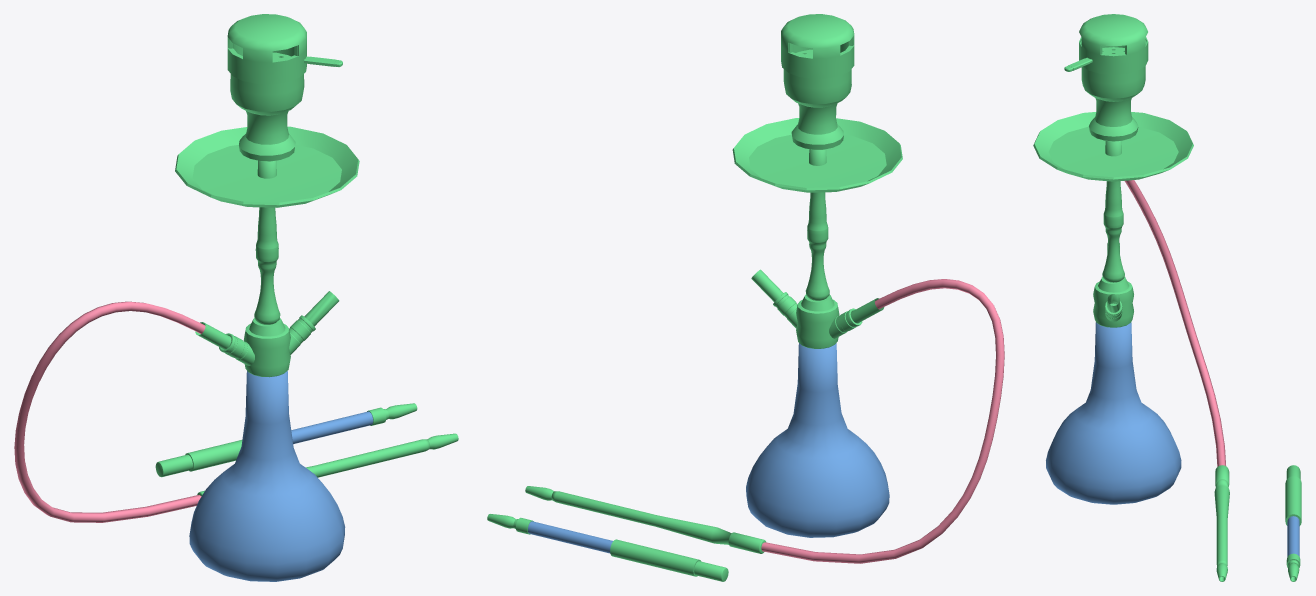
The model's file is Shisha_Reference.fbx.
3 views of the same model, side by side, from view 1: azimuth 30°, elevation 25°; view 2: azimuth 150°, elevation 25°; view 3: azimuth 270°, elevation 25° (orthographic). The views are drawn at different scales.
Visible parts, largest first — view 1: bottle, ashTray, hose, top, clayTop, pipeIce, adapter, body, pipe; view 2: bottle, ashTray, hose, top, pipeIce, clayTop, pipe, adapter, body; view 3: bottle, ashTray, top, clayTop, hose, body, pipeIce, adapter, pipe.
Part boxes in pixels (box(x1,y1,x2,y2)): bottle: box(189, 371, 345, 581); ashTray: box(175, 126, 359, 207); hose: box(14, 301, 205, 522); top: box(227, 14, 342, 84); clayTop: box(230, 56, 304, 161); pipeIce: box(155, 403, 417, 477); adapter: box(219, 315, 315, 377); body: box(254, 160, 280, 324); pipe: box(197, 433, 458, 495); bottle: box(746, 343, 889, 537); ashTray: box(732, 118, 902, 192); hose: box(761, 279, 1004, 563); top: box(781, 14, 854, 78); pipeIce: box(487, 514, 728, 581); clayTop: box(783, 53, 851, 149); pipe: box(525, 486, 765, 553); adapter: box(773, 292, 862, 348); body: box(805, 149, 829, 300); bottle: box(1046, 322, 1181, 504); ashTray: box(1033, 112, 1193, 181); top: box(1064, 14, 1148, 74); clayTop: box(1081, 49, 1145, 141); hose: box(1124, 180, 1225, 466); body: box(1102, 141, 1124, 282); pipeIce: box(1285, 465, 1301, 581); adapter: box(1093, 276, 1133, 327); pipe: box(1214, 465, 1229, 581).
Size of the model in its own units: 59.38 by 63.31 by 33.77.
